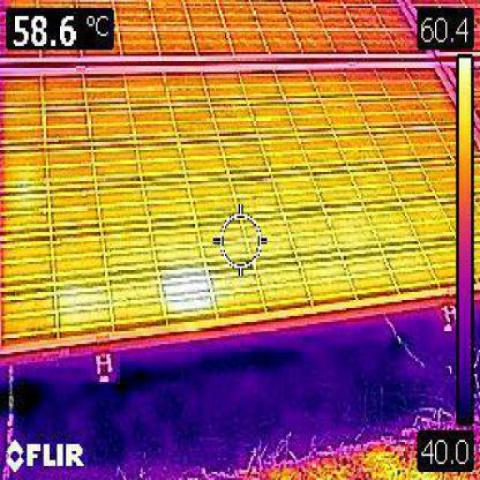fault: (164, 273, 220, 315), (61, 286, 103, 319)
